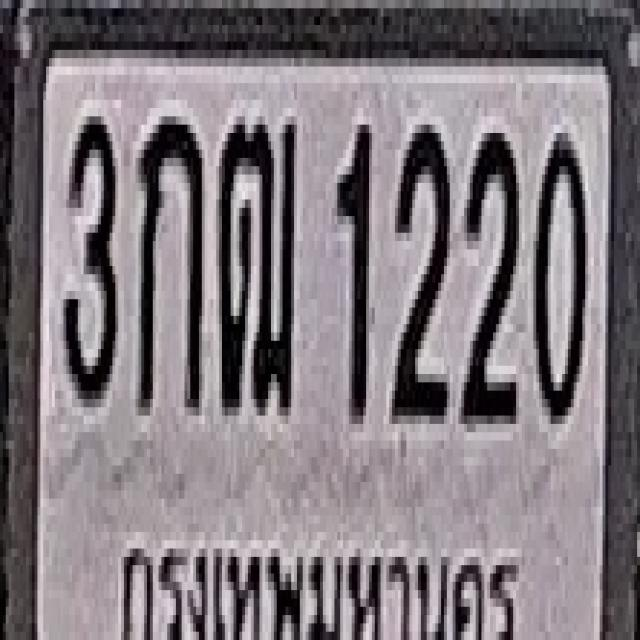-: (218, 112, 296, 412), (137, 108, 200, 407)
0: (534, 129, 586, 420)
1: (336, 117, 370, 416)
2: (391, 120, 448, 420), (460, 125, 517, 424)
3: (62, 112, 117, 403)
BKK: (114, 519, 524, 640)
